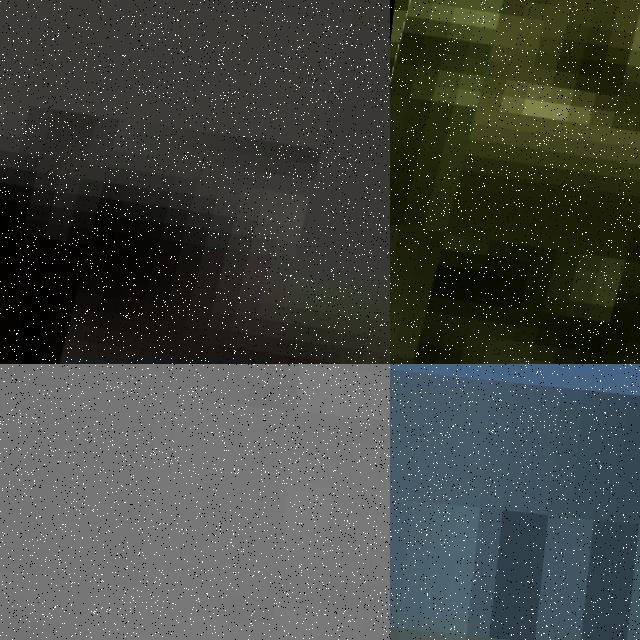drone: (0, 0, 390, 364), (390, 0, 640, 364)
